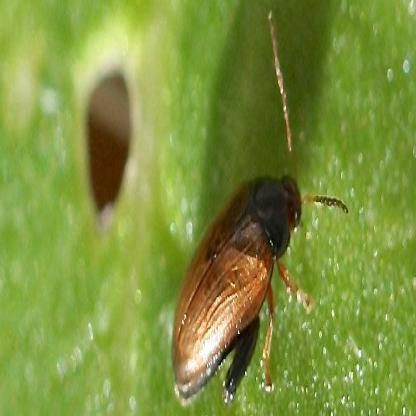beetle: (157, 0, 356, 416)
